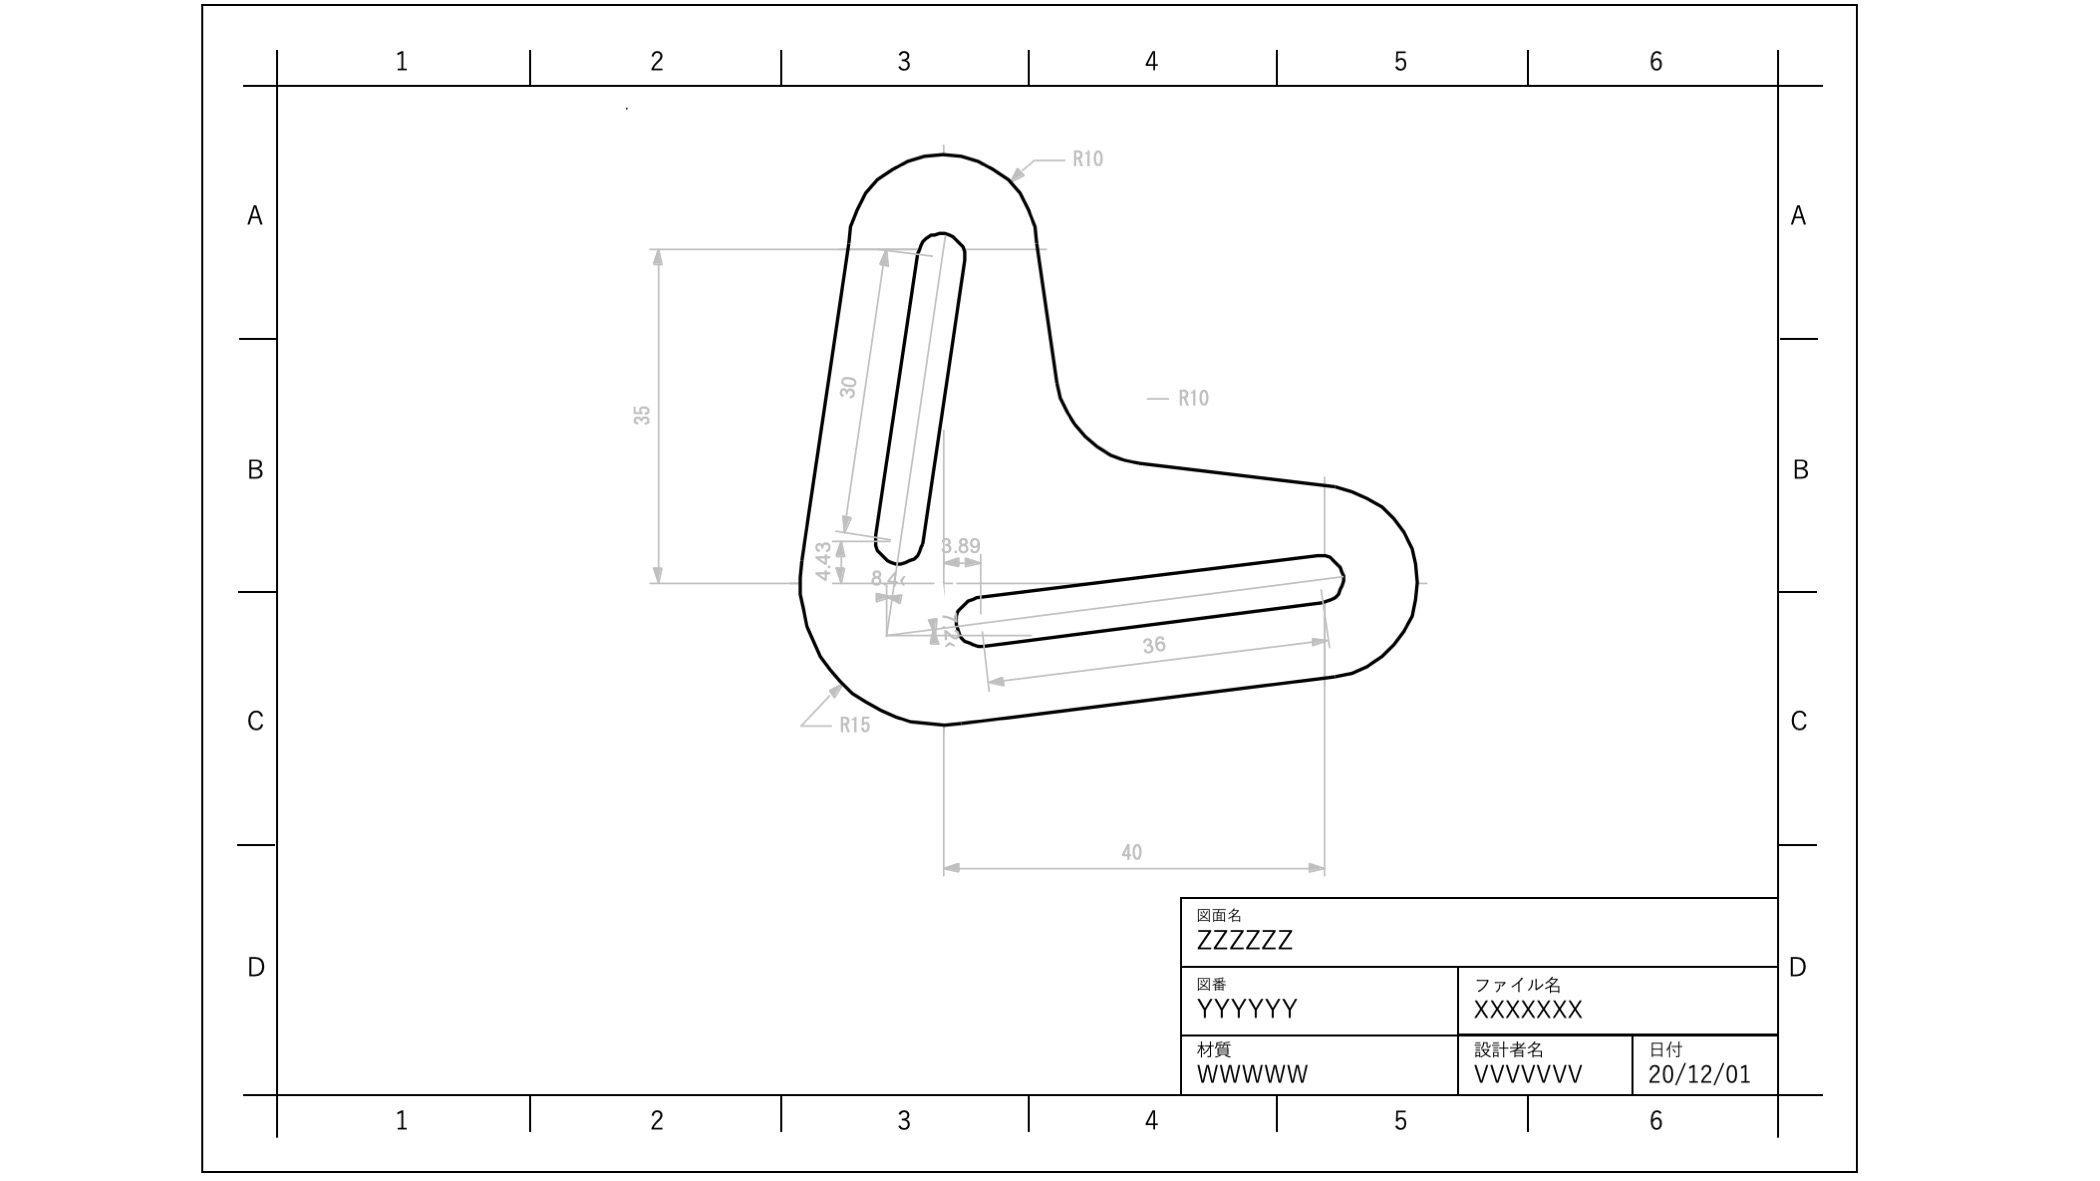round_rectangle: (949, 539, 1347, 660), (861, 218, 972, 572)
